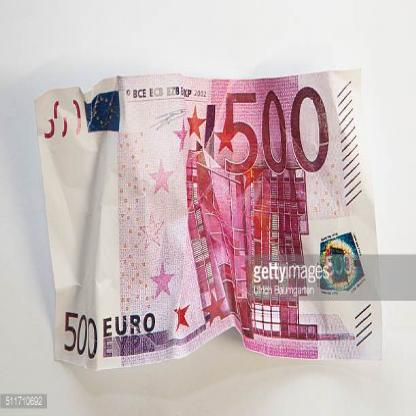billete: (33, 63, 386, 368)
